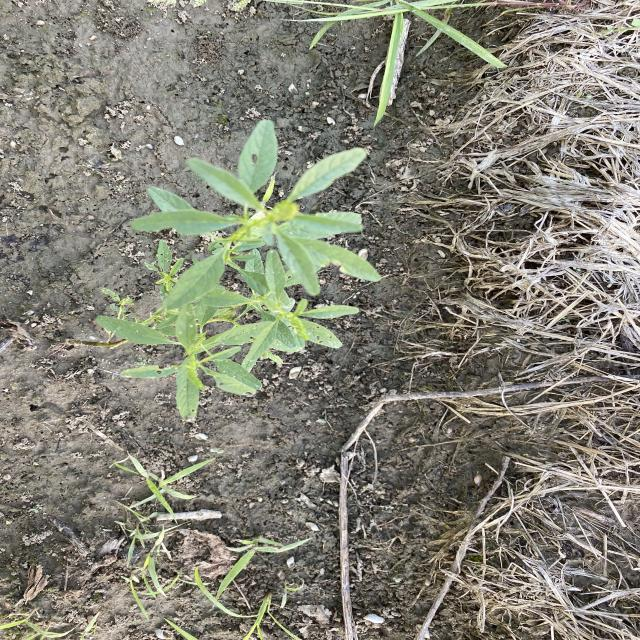Waterhemp: (91, 119, 382, 422)
